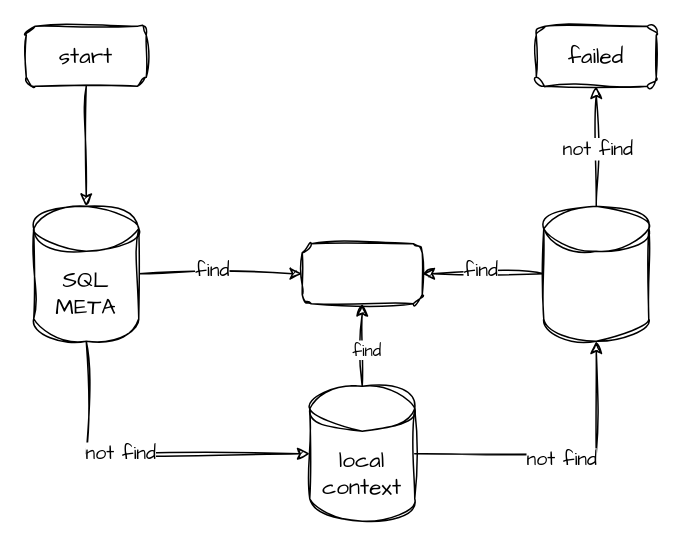
Some shapes in this 683 by 548 pixel diagram are drawn without their labels. Each missing label, with the centre of its shape:
PLSQL META: [595,273]
success: [361,273]
